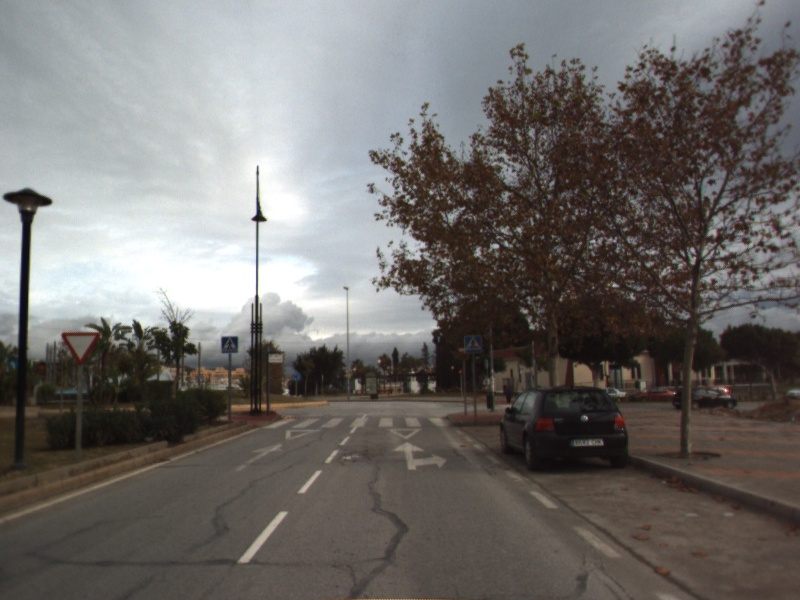STRAIGHT: (231, 441, 286, 473)
STRAIGHT_RIGHT: (391, 440, 449, 472)
